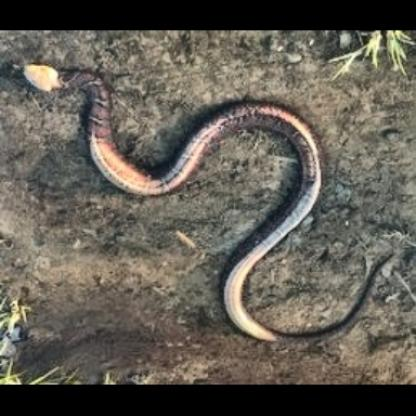Snake: (20, 70, 416, 360)
